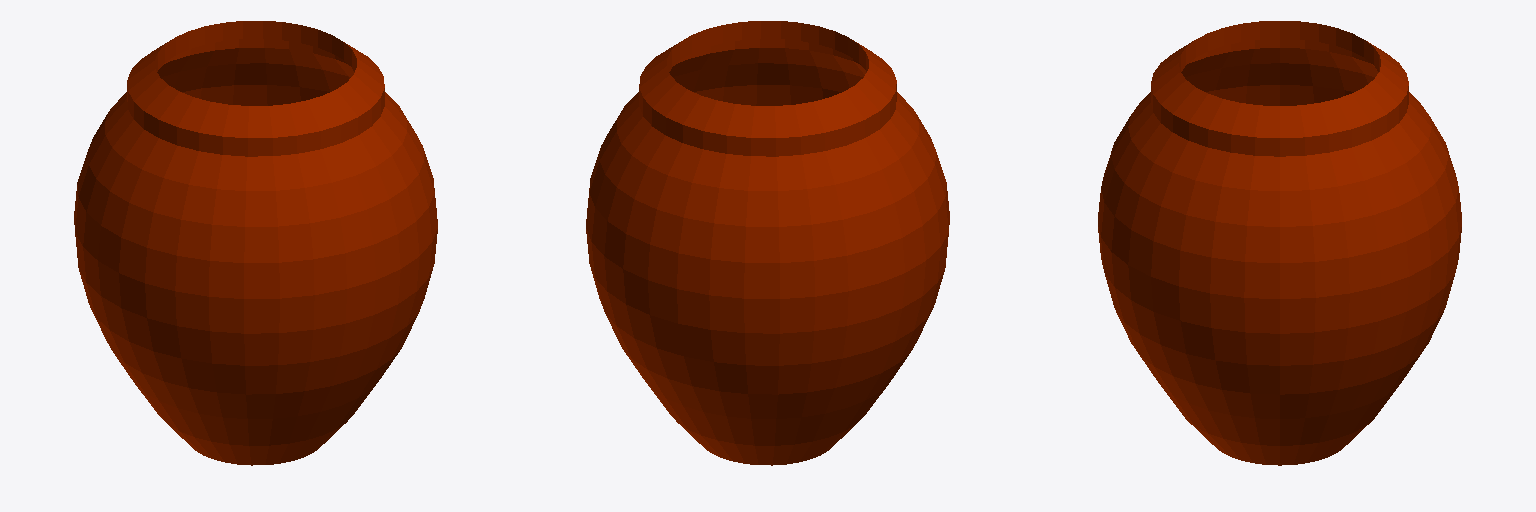
Rendered from vasija.obj.
3 views of the same model, side by side, from view 1: azimuth 30°, elevation 25°; view 2: azimuth 150°, elevation 25°; view 3: azimuth 270°, elevation 25° (orthographic).
Parts seen in each view (by area): view 1: Sphere; view 2: Sphere; view 3: Sphere.
Boxes of the visible parts, x1=… form: Sphere: x1=74, y1=21, x2=437, y2=465; Sphere: x1=586, y1=21, x2=949, y2=465; Sphere: x1=1098, y1=21, x2=1461, y2=465.
Size of the model in its own units: 2.71 by 3.16 by 2.71.